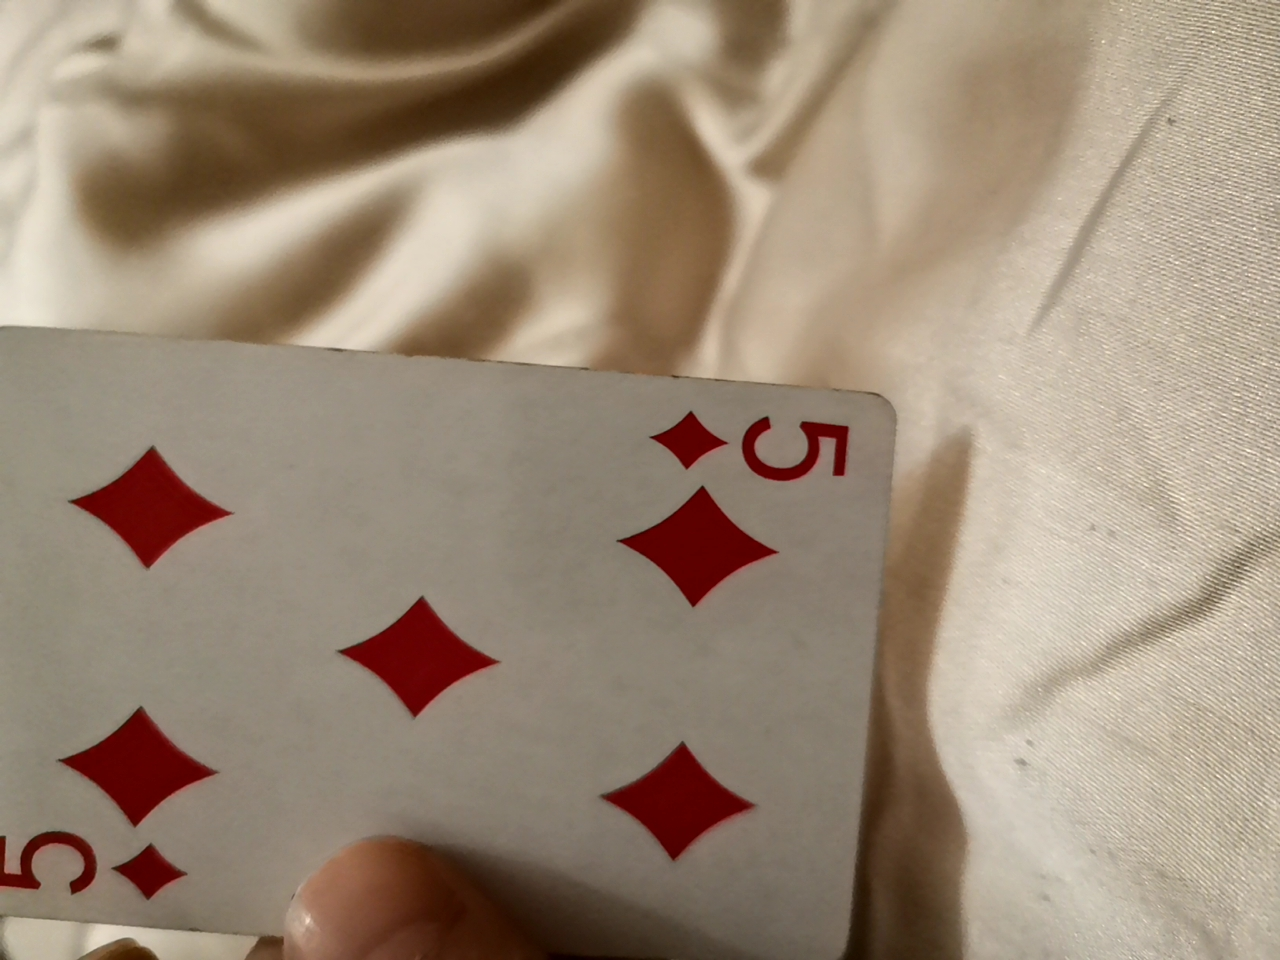fk 5: (0, 343, 883, 951)
